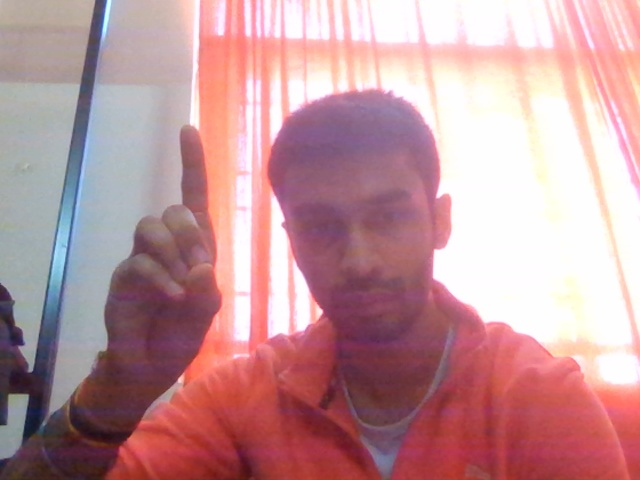D: (83, 111, 236, 435)
